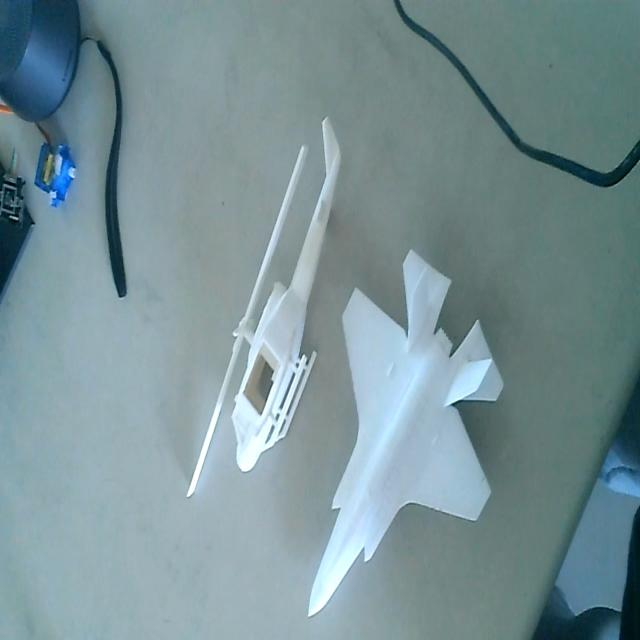Helicopter: (179, 116, 343, 497)
Jet: (305, 246, 505, 622)
